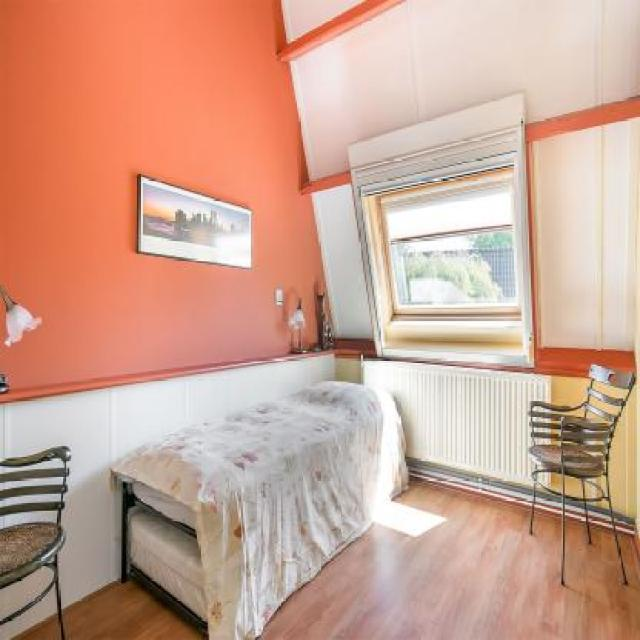floor: (256, 477, 640, 640), (60, 573, 200, 640), (3, 616, 66, 640)
